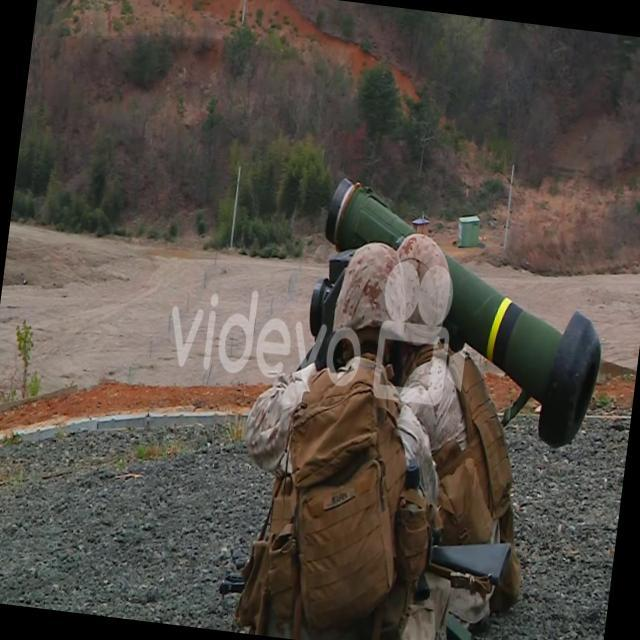rocket: (308, 177, 614, 449)
